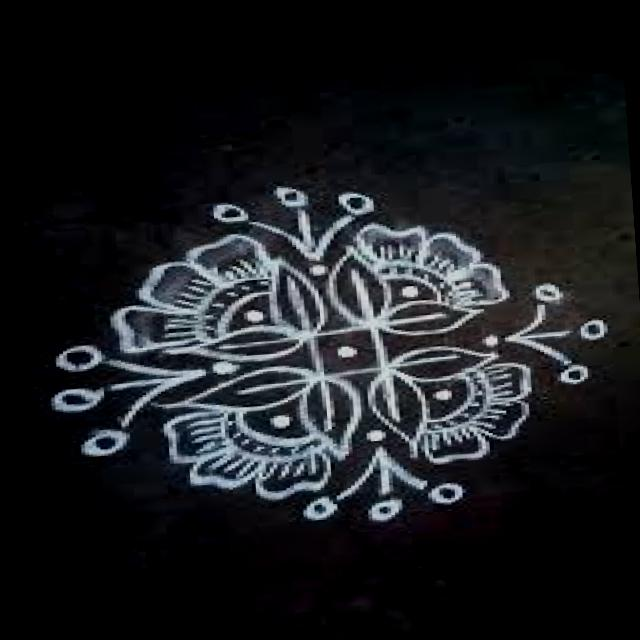rangoli: (35, 166, 614, 544)
